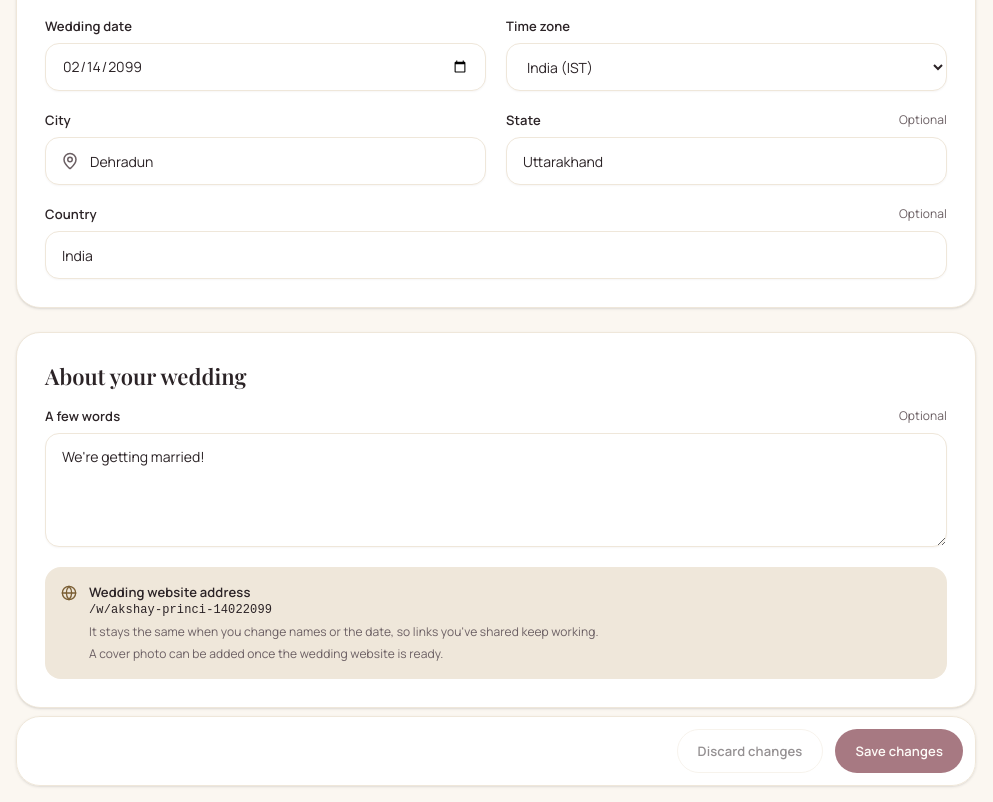
Test case: <WeddingDetailsScreen /> › saves only what changed, then confirms and refreshes the header
This screenshot has width=993, height=802.
(page scrolled)
Type "Two families, one celebration." into the text box labelled "A few words" at (496, 490), box [45,433,947,547]
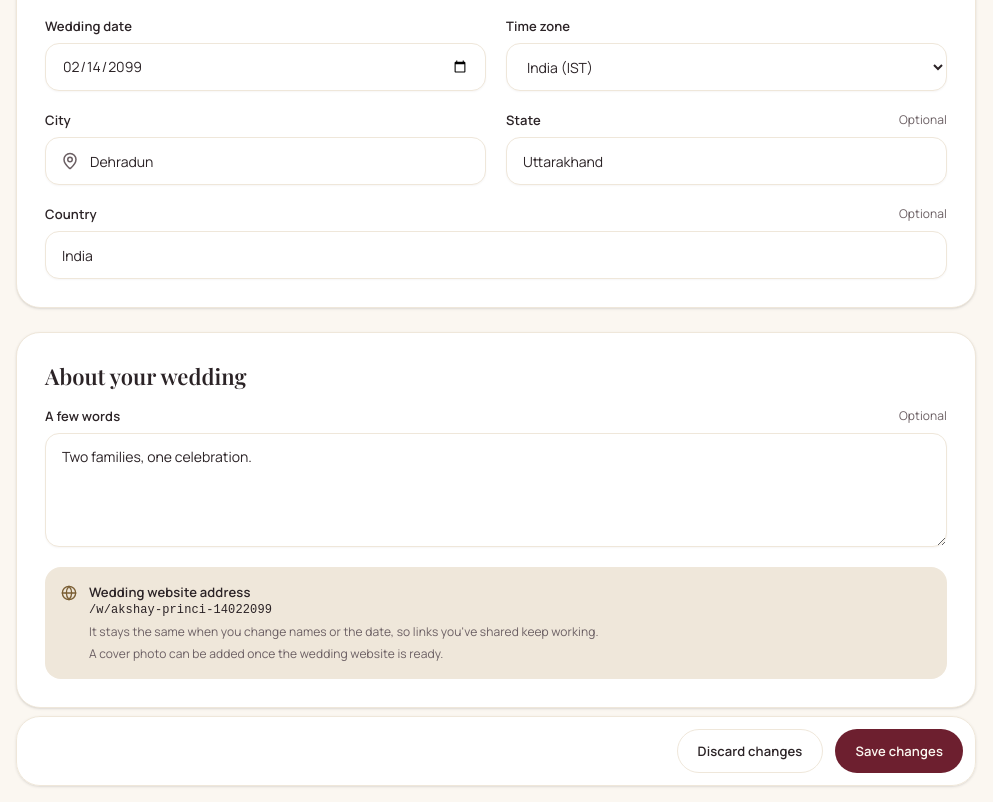
Click the button "Save changes" at (899, 751), box [835,729,963,773]
(page scrolled)
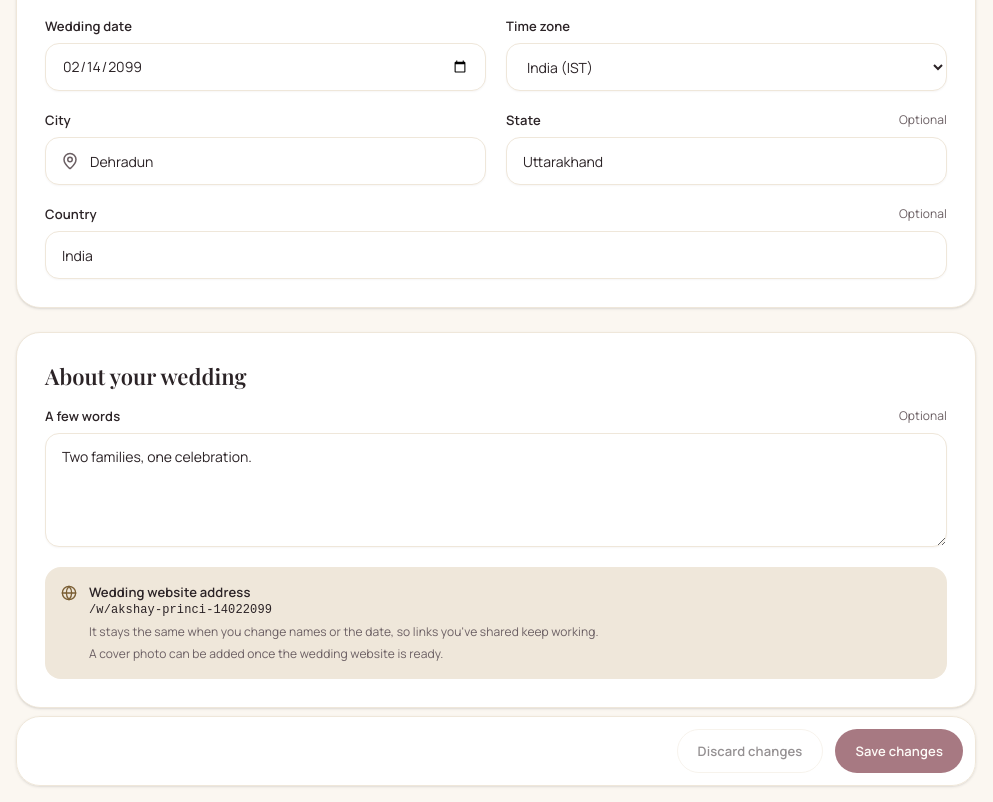
Check: the button "Save changes" is disabled, box [835,729,963,773]
